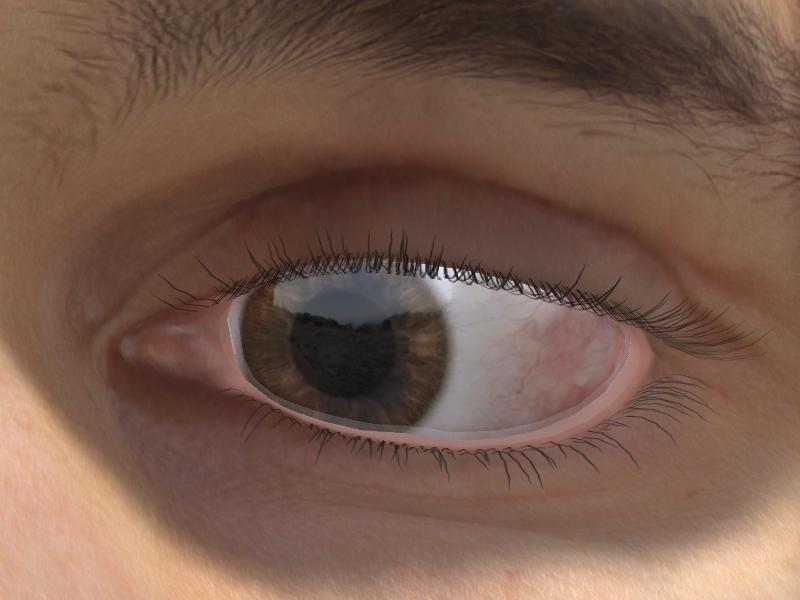eye: (243, 258, 450, 433)
